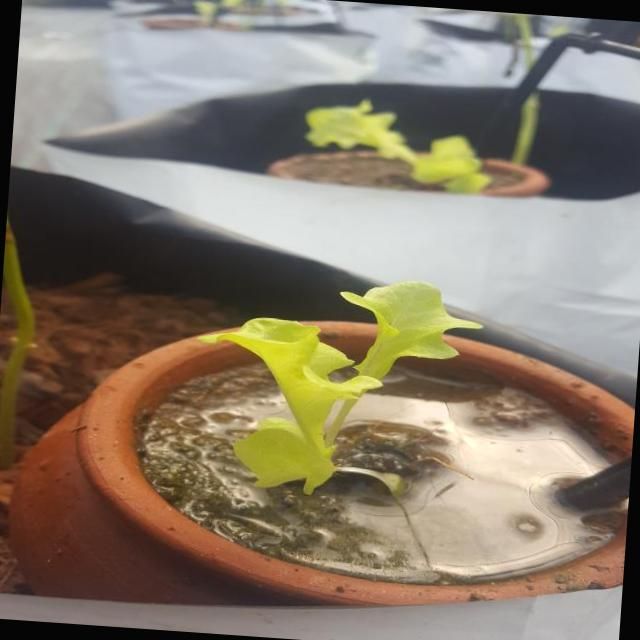Lettuce-Not-Ready-to-Harvest: (231, 282, 479, 488), (303, 98, 491, 193)
